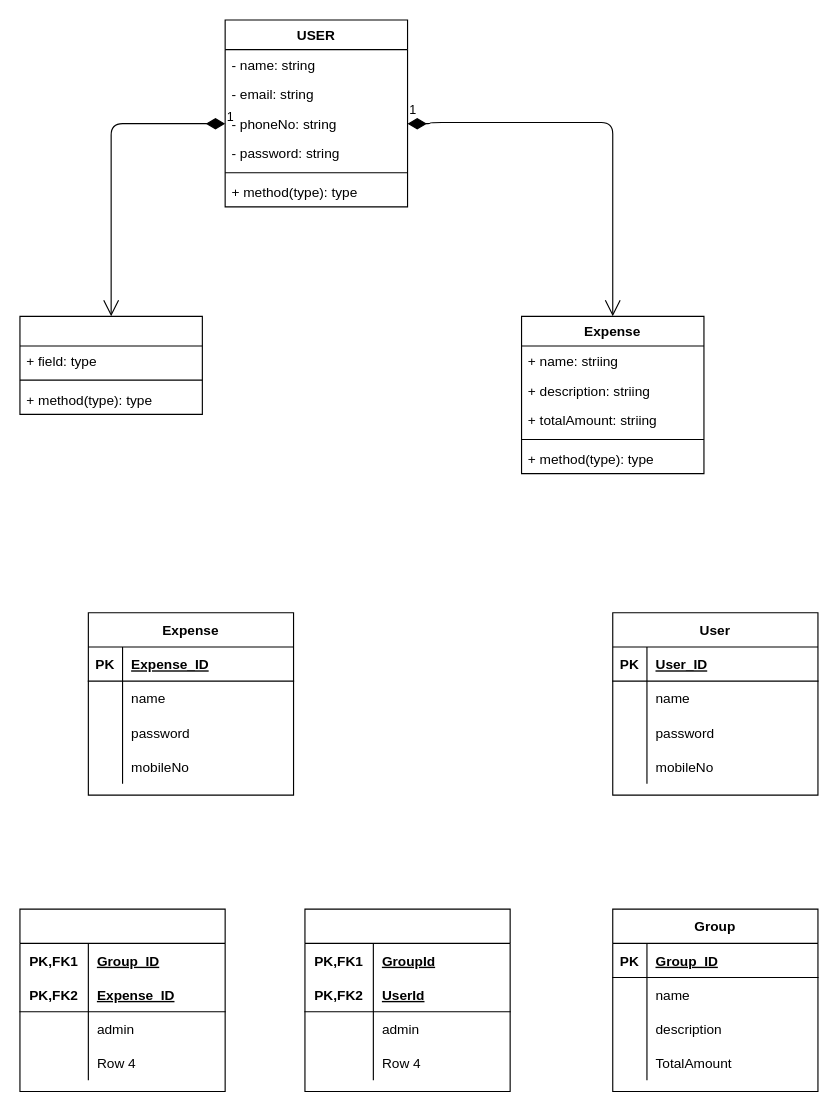
Some shapes in this 838 by 1112 pixel diagram are drawn without their labels. The box of each missing label's shape, as (x1, y1, x2, y2) in pixels:
Expense_Group: (19, 908, 225, 1092)
GROUPS: (19, 315, 202, 414)
User_Group: (304, 908, 510, 1092)
